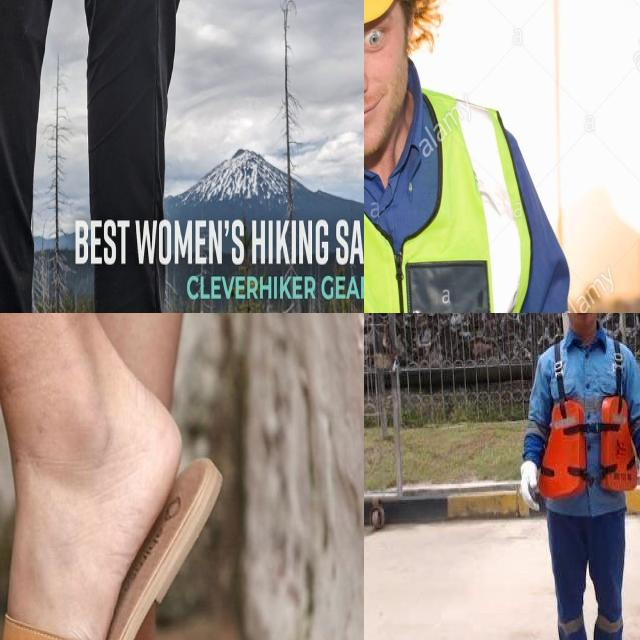Sandals: (0, 313, 201, 640)
face_nomask: (364, 27, 419, 151)
hand_glove: (517, 459, 541, 512)
head_helmet: (538, 397, 639, 499)
person: (364, 0, 587, 313), (504, 313, 640, 640)
vest: (364, 101, 525, 313), (524, 382, 640, 508)
